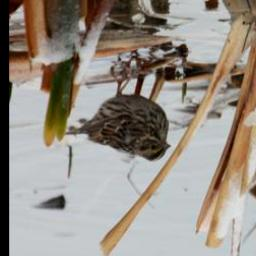Sparrow: (64, 63, 173, 163)
